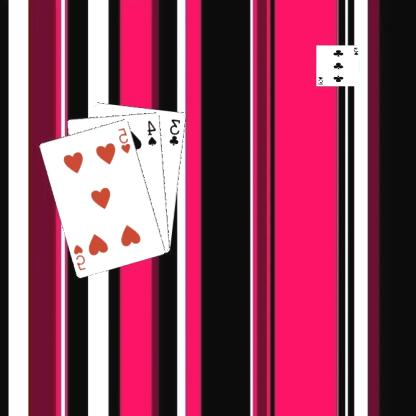3C: (168, 116, 184, 147)
4S: (147, 118, 160, 147)
5H: (116, 124, 134, 154), (72, 241, 89, 271)
